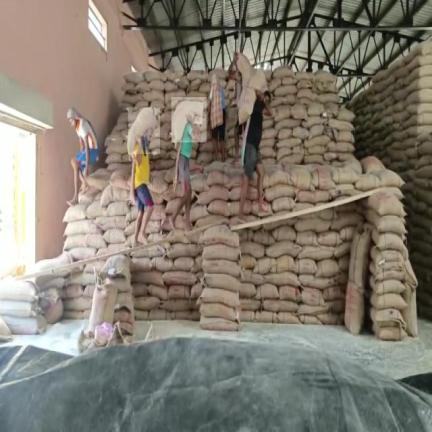Zone-Counting: (236, 55, 271, 217), (128, 108, 159, 246), (171, 98, 203, 223)
